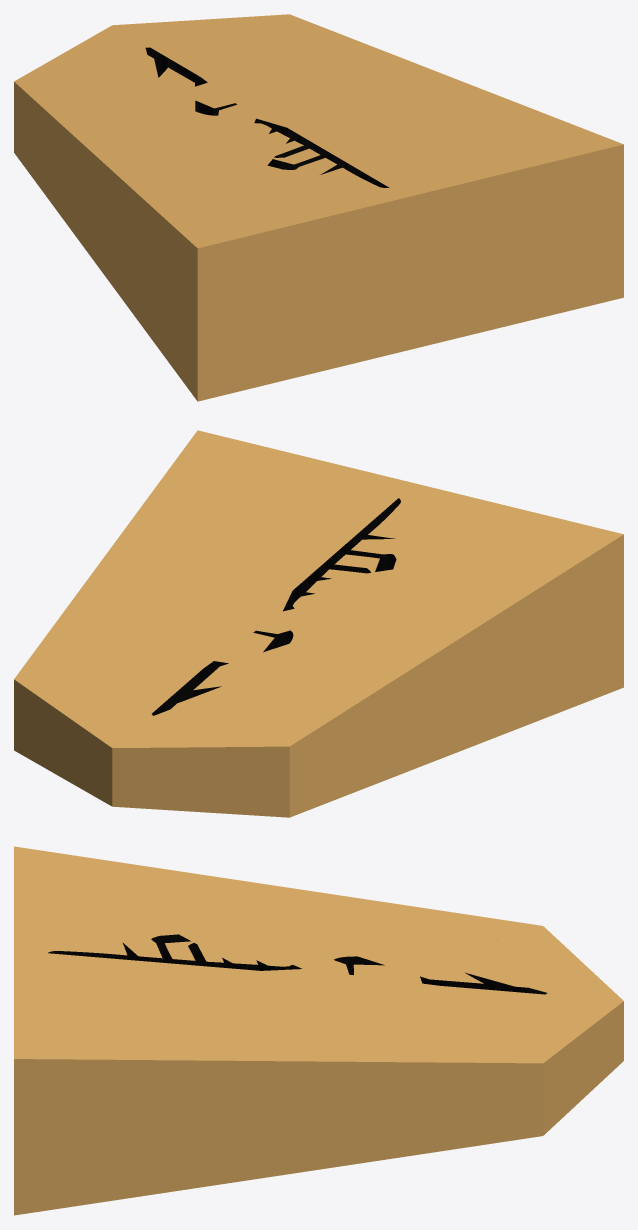
Rendered from kyou.fbx.
3 renders of one model, top to bottom at view 1: azimuth 30°, elevation 25°; view 2: azimuth 150°, elevation 25°; view 3: azimuth 270°, elevation 25°, orthographic. The views are drawn at different scales.
Visible parts, largest first — view 1: 平面.002; view 2: 平面.002; view 3: 平面.002.
Boxes of the visible parts, left/top/right/bottom form: 平面.002: left=14, top=14, right=623, bottom=401; 平面.002: left=14, top=430, right=623, bottom=817; 平面.002: left=14, top=846, right=623, bottom=1215.
Size of the model in its own units: 0.023 by 0.0079 by 0.0279.
